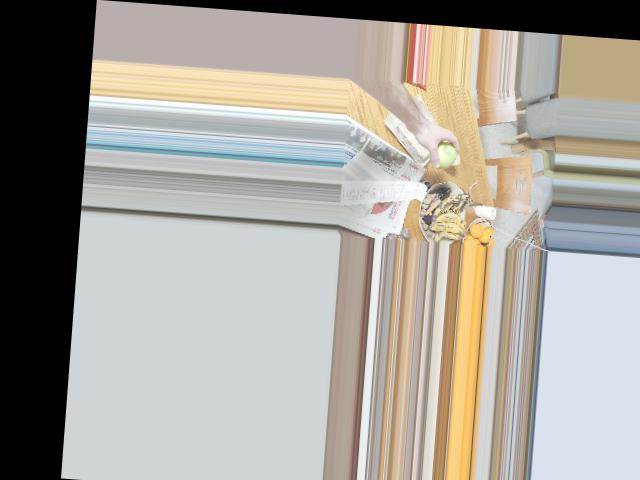apple: (428, 140, 459, 169)
